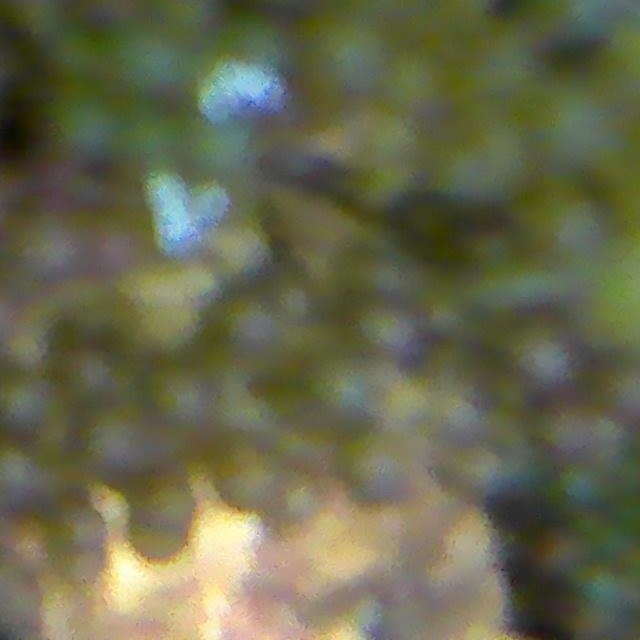SeaGrape: (431, 105, 541, 209), (531, 80, 629, 176), (523, 188, 611, 272), (7, 208, 100, 287), (309, 15, 390, 96), (465, 26, 541, 104), (114, 22, 190, 97), (51, 87, 126, 163), (385, 47, 455, 116)
